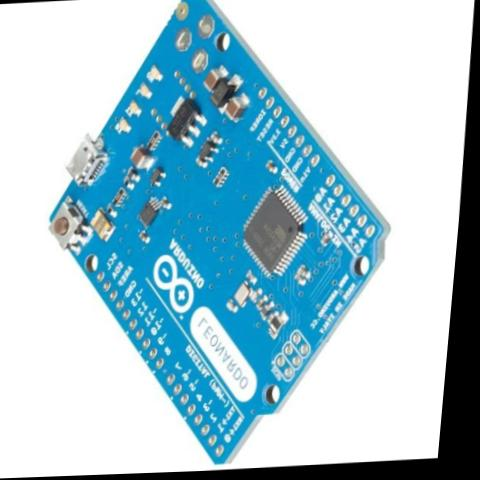Arduino-Leonardo: (19, 0, 423, 477)
